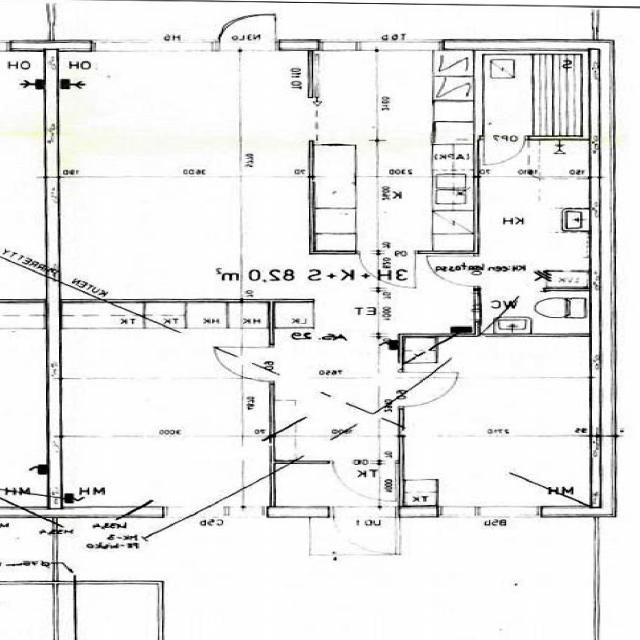door: (334, 505, 396, 555), (333, 460, 396, 503), (218, 4, 276, 50), (359, 250, 416, 289), (399, 372, 460, 407), (216, 348, 274, 381), (424, 256, 480, 286), (486, 136, 526, 163)
